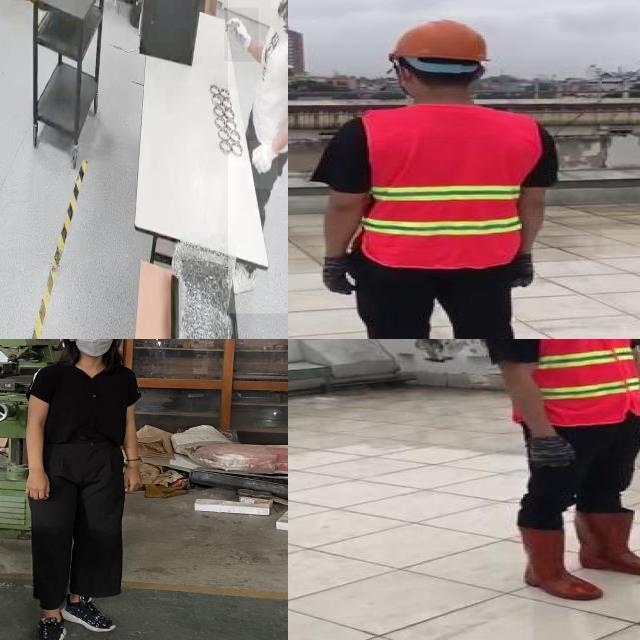boots: (504, 522, 606, 603), (578, 506, 640, 576)
face_mask: (71, 339, 118, 355)
hand_glove: (521, 434, 578, 471), (312, 254, 358, 295), (224, 8, 258, 62), (250, 141, 278, 190), (502, 257, 544, 288)
hand_noglove: (20, 469, 55, 504), (123, 465, 142, 494)
head_helmet: (383, 18, 497, 68)
person: (303, 17, 561, 339), (461, 339, 640, 609), (11, 339, 155, 640), (228, 0, 288, 314)
shoes: (55, 592, 119, 633), (27, 614, 70, 640)
vest: (356, 106, 540, 268), (491, 339, 640, 427)
